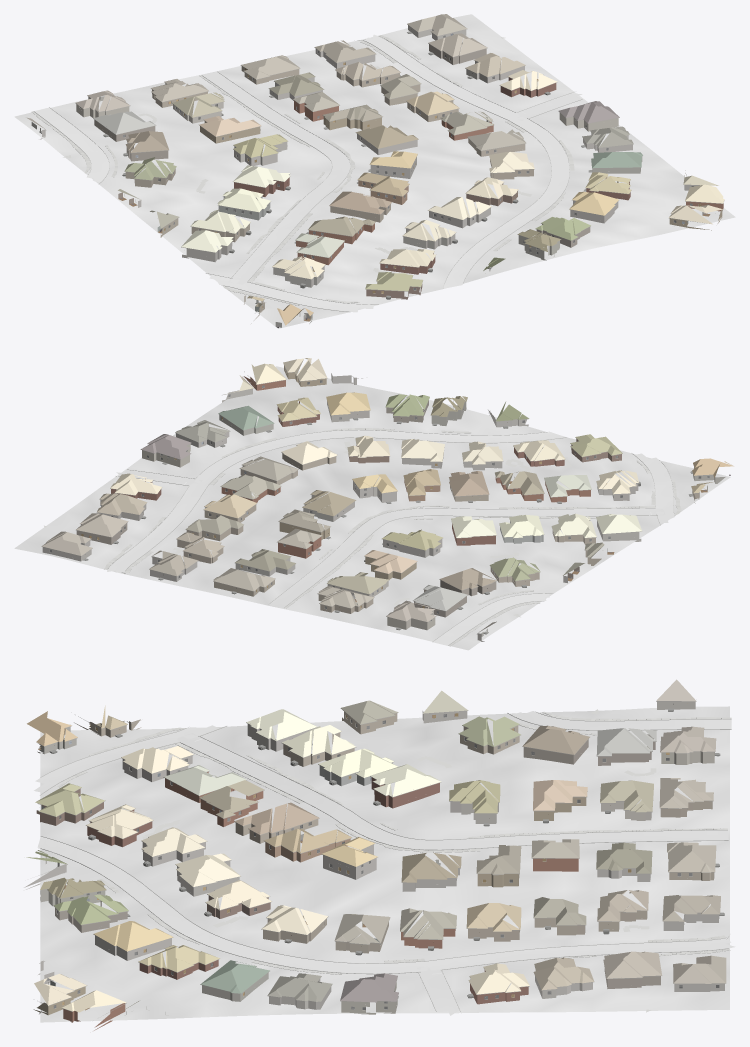
3 views of the same model, one above another, from view 1: azimuth 30°, elevation 25°; view 2: azimuth 150°, elevation 25°; view 3: azimuth 270°, elevation 25° (orthographic). The views are drawn at different scales.
Visible parts, largest first — view 1: ground, roof, concrete, wall, wall_stone, detail, walk, wall_stucco, curb, glass; view 2: ground, roof, concrete, wall, wall_stone, detail, walk, curb, wall_stucco; view 3: ground, roof, concrete, wall, wall_stone, detail, walk, curb, wall_stucco, glass.
Part boxes in pixels (box(x1,y1,x2,y2)): ground: box(14, 14, 735, 328); roof: box(26, 14, 724, 325); concrete: box(34, 34, 582, 312); wall: box(94, 44, 723, 323); wall_stone: box(39, 25, 698, 287); detail: box(31, 24, 724, 318); walk: box(31, 35, 574, 305); wall_stucco: box(76, 97, 642, 323); curb: box(33, 36, 582, 311); glass: box(79, 35, 709, 292); ground: box(14, 366, 730, 650); roof: box(42, 358, 733, 632); concrete: box(107, 430, 674, 645); wall: box(76, 365, 699, 617); wall_stone: box(42, 373, 641, 641); detail: box(41, 365, 714, 636); walk: box(44, 428, 681, 646); curb: box(107, 429, 676, 646); wall_stucco: box(142, 400, 725, 630); ground: box(40, 706, 729, 1022); roof: box(26, 679, 726, 1013); concrete: box(34, 711, 735, 1015); wall: box(33, 711, 714, 1030); wall_stone: box(24, 701, 724, 1009); detail: box(37, 701, 725, 1015); walk: box(57, 709, 731, 1012); curb: box(40, 711, 731, 1013); wall_stucco: box(37, 724, 714, 1014); glass: box(41, 714, 719, 1009).
Bounding box in the file's own units: 268 × 19.44 × 262.
